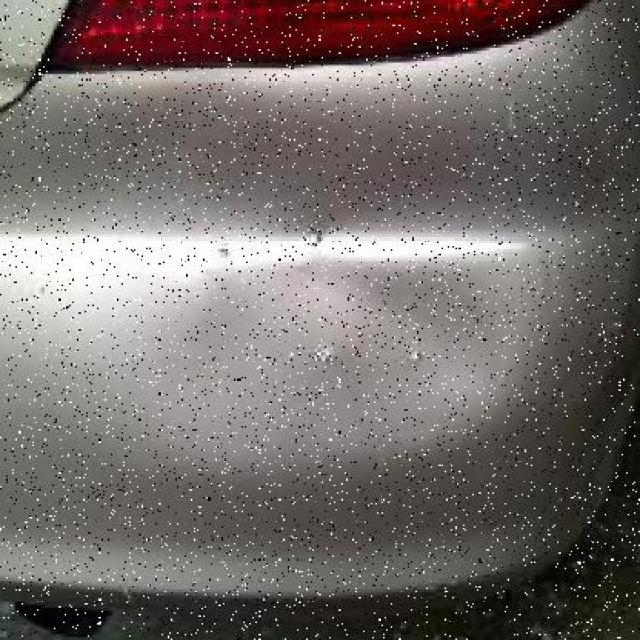car damage: (270, 212, 558, 436)
